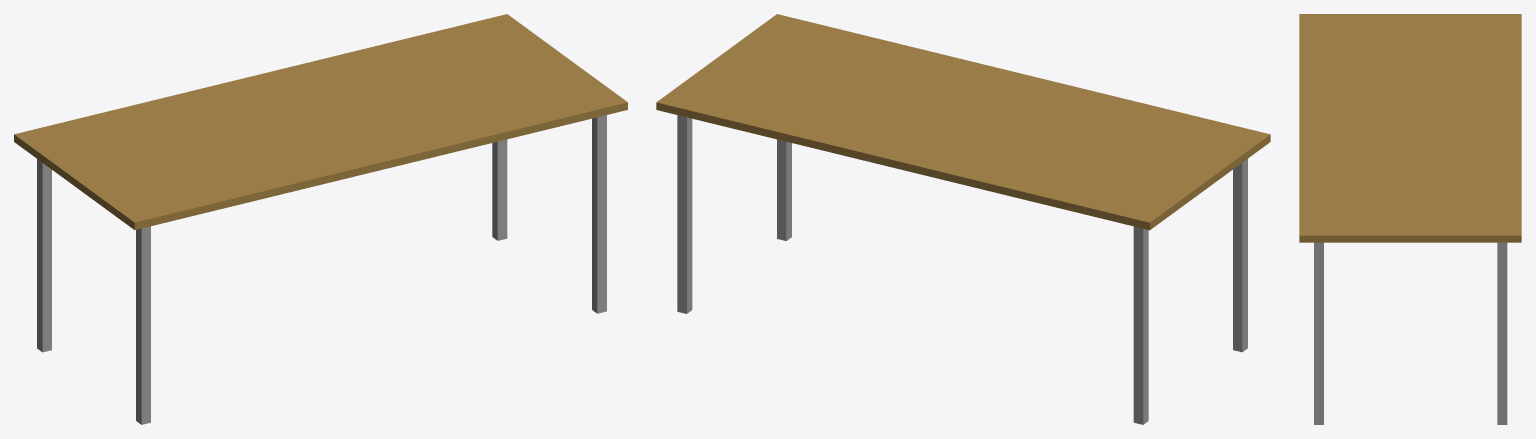
File: Desk.fbx
3 views of the same model, side by side, from view 1: azimuth 30°, elevation 25°; view 2: azimuth 150°, elevation 25°; view 3: azimuth 270°, elevation 25° (orthographic). The views are drawn at different scales.
Parts seen in each view (by area): view 1: pCube2, pCube5, pCube4, pCube3, pCube6; view 2: pCube2, pCube6, pCube3, pCube4, pCube5; view 3: pCube2, pCube6, pCube5.
Boxes of the visible parts, x1,y1,x2,y2 form: pCube2: (14, 14, 627, 229); pCube5: (592, 115, 606, 313); pCube4: (136, 226, 150, 424); pCube3: (37, 159, 51, 352); pCube6: (492, 139, 507, 240); pCube2: (656, 14, 1270, 230); pCube6: (677, 115, 692, 313); pCube3: (1133, 226, 1148, 424); pCube4: (1233, 159, 1247, 352); pCube5: (777, 139, 791, 240); pCube2: (1299, 14, 1521, 242); pCube6: (1497, 242, 1507, 424); pCube5: (1314, 242, 1323, 424).
Bounding box in the file's own units: 247 × 101 × 105.
